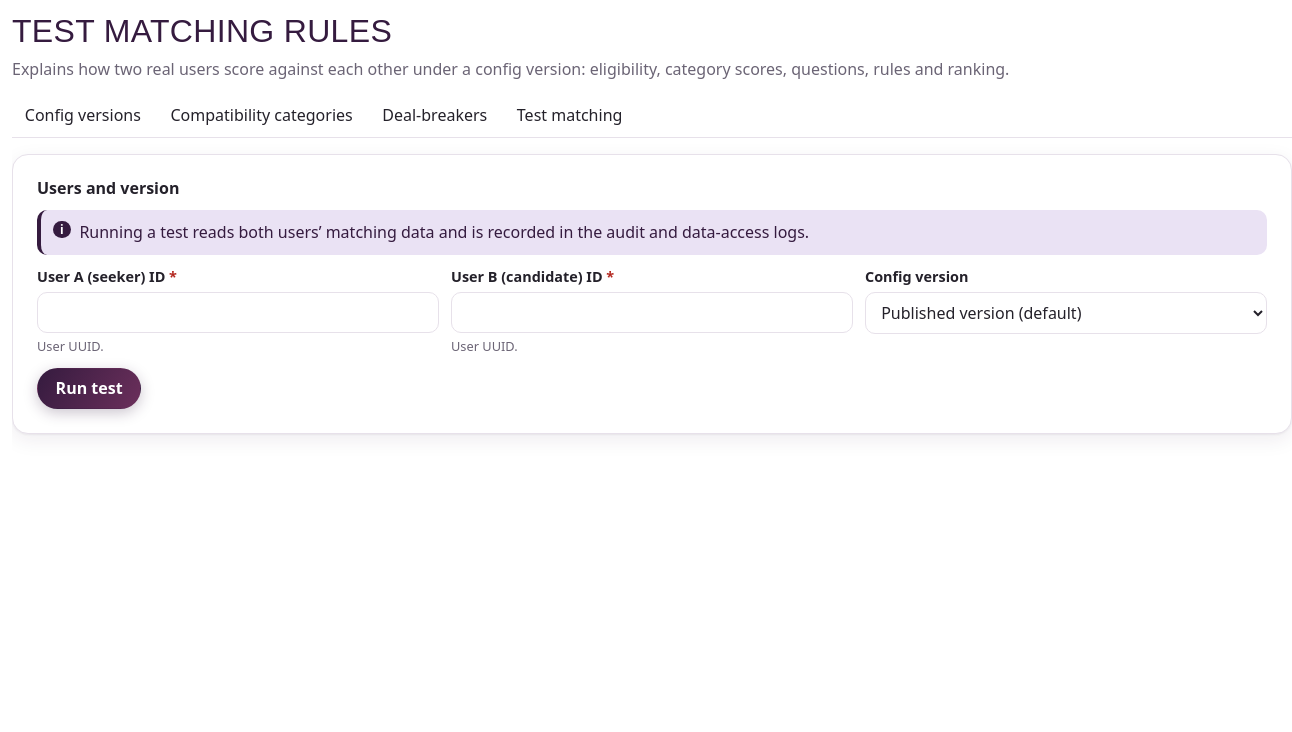
Test: MatchTestPage › shows API errors (e.g. users without profiles)
Step 1. Type "44444444-4444-4444-8444-444444444444" into the field labelled "User A (seeker) ID *" → (238, 313), box [37,292,439,333]
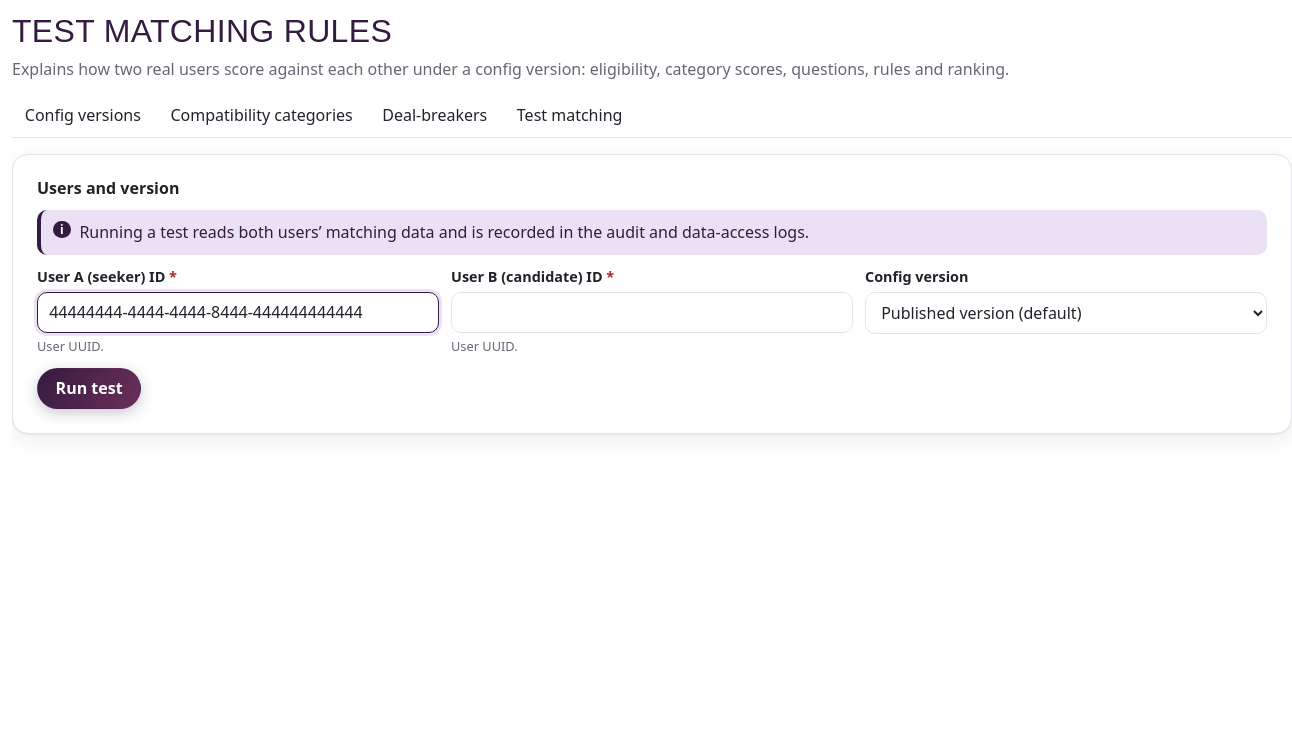
Step 2. Type "55555555-5555-4555-8555-555555555555" into the field labelled "User B (candidate) ID *" → (652, 313), box [451,292,853,333]
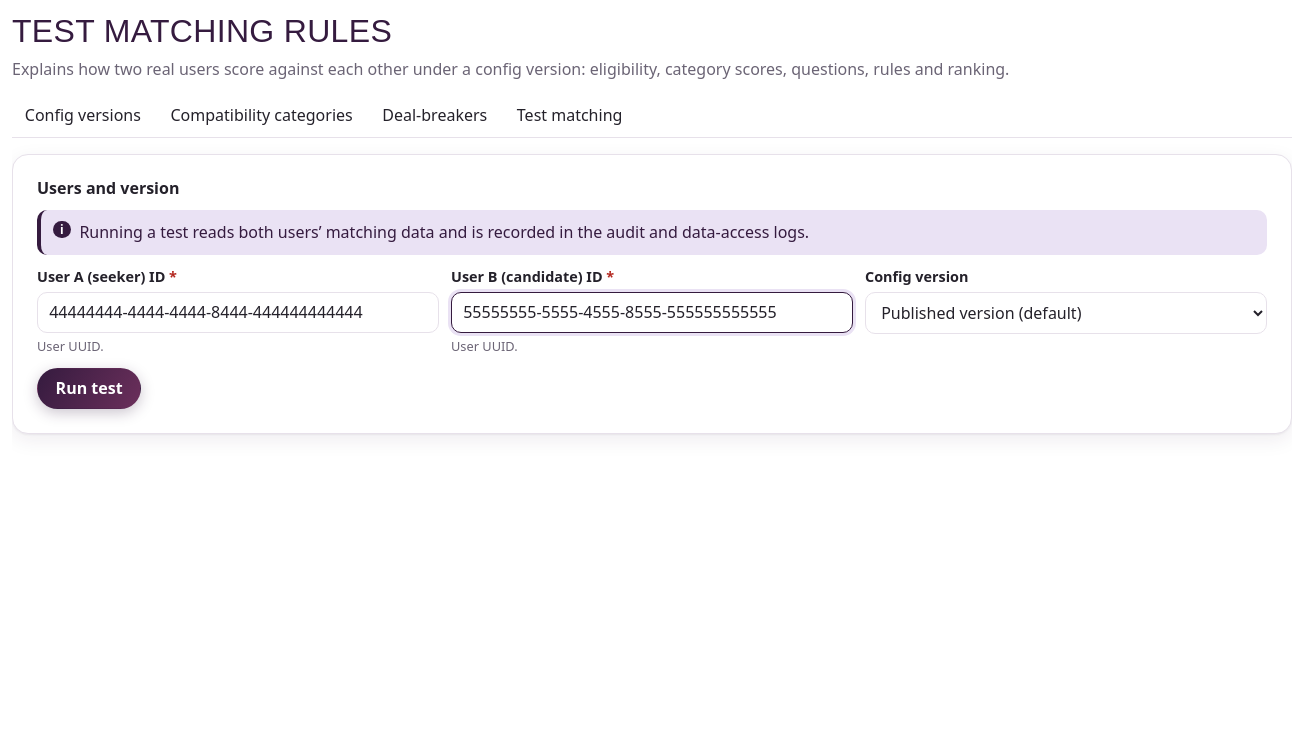
Step 3. Click the button "Run test" → (89, 388), box [37,368,141,409]
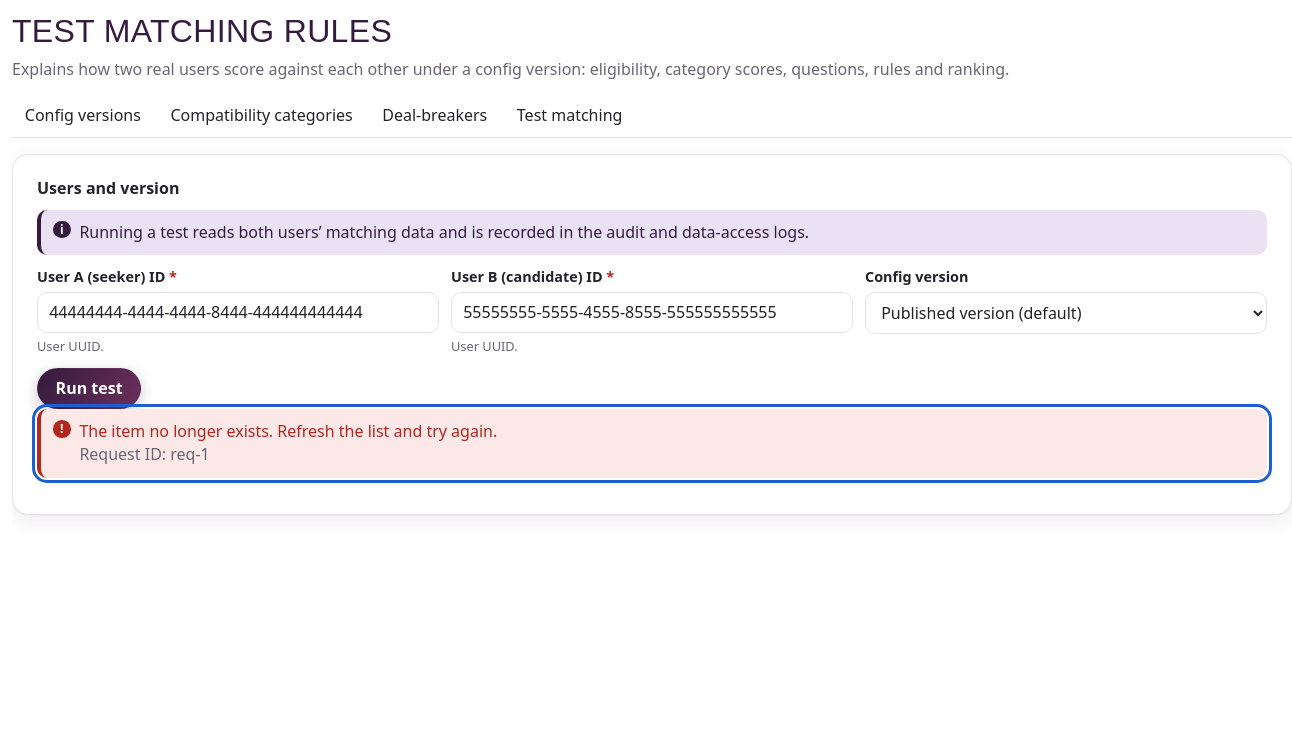
Expected: the text "The item no longer exists. Refresh the list and try again." is shown, [79,420,497,442]
